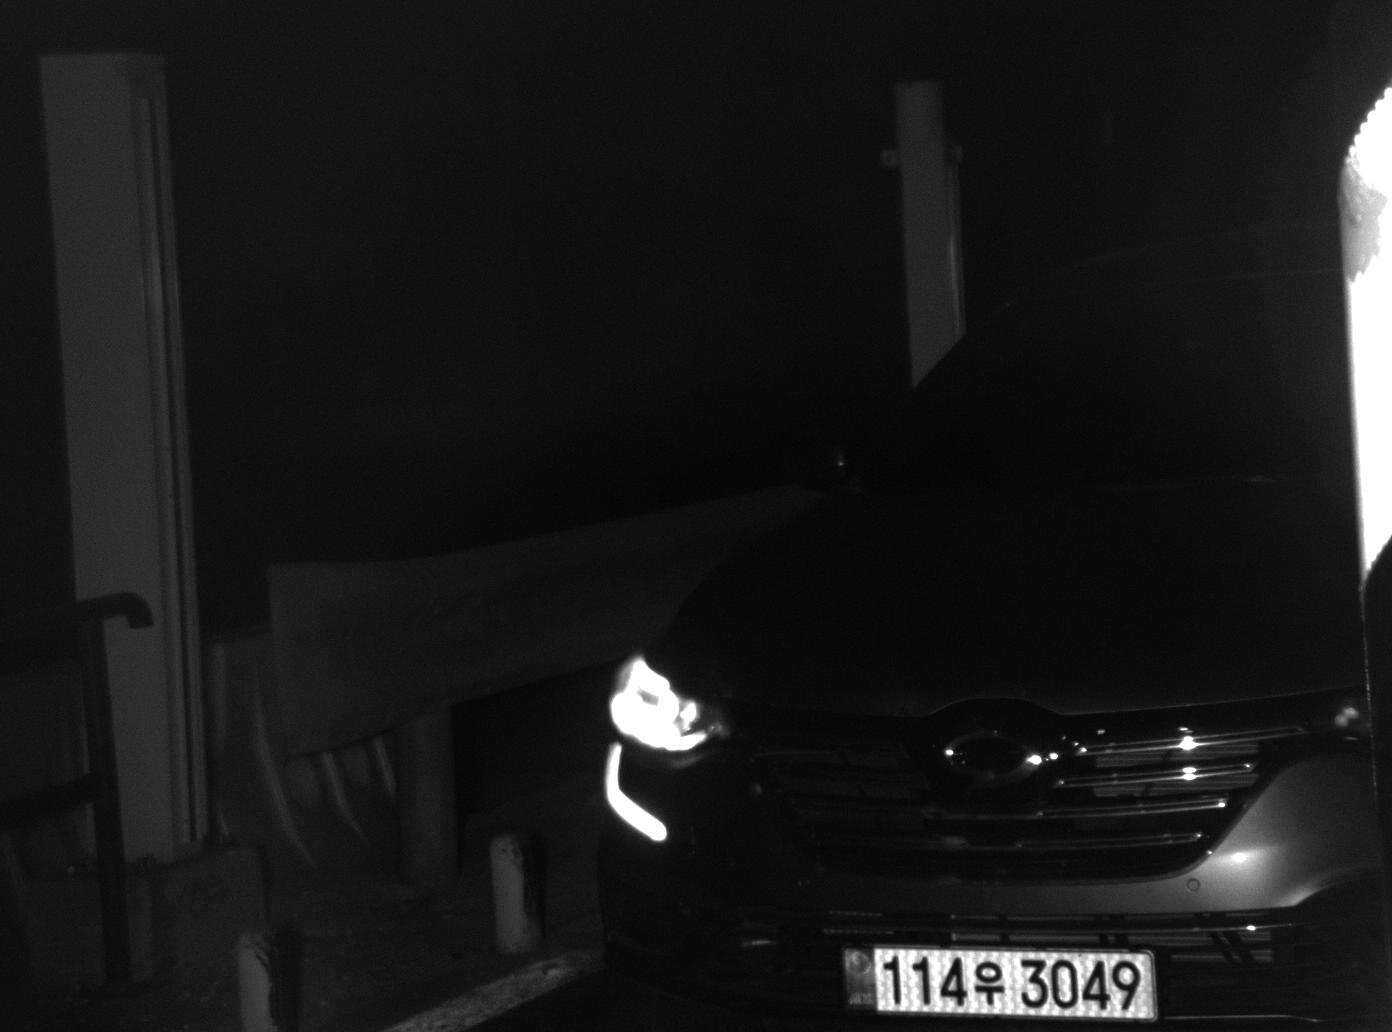car: (589, 246, 1389, 1027)
plate: (838, 943, 1161, 1023)
